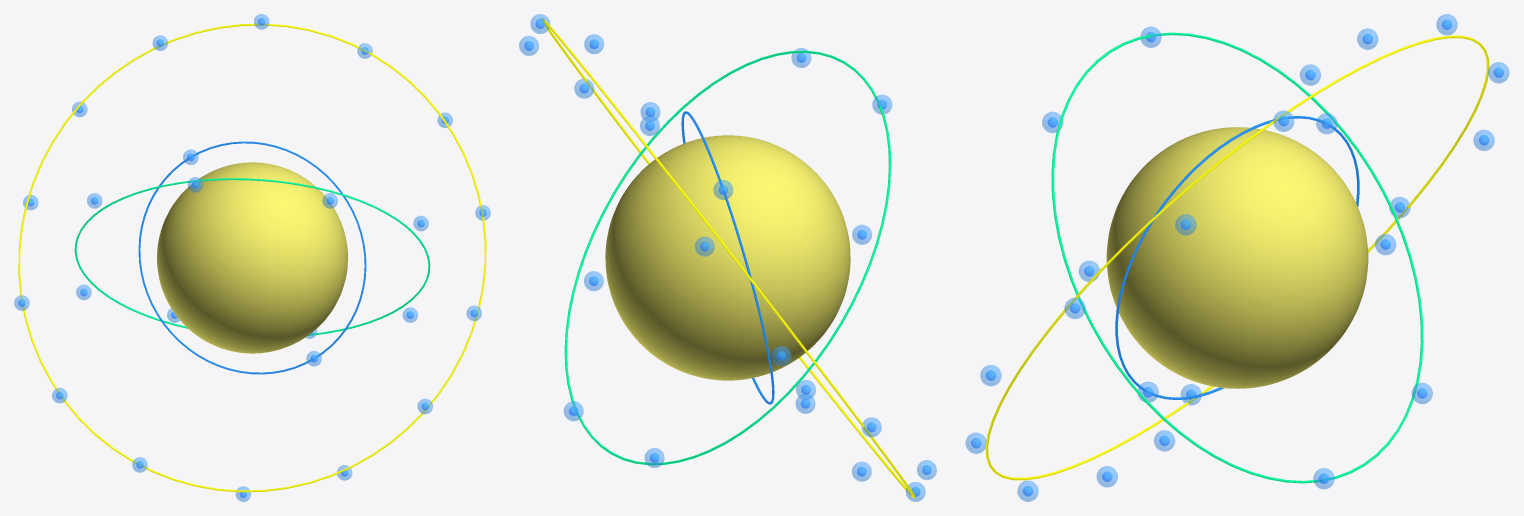
The picture shows the model from 3 angles, left to right: view 1: azimuth 30°, elevation 25°; view 2: azimuth 150°, elevation 25°; view 3: azimuth 270°, elevation 25°; orthographic projection. The views are drawn at different scales.
Parts seen in each view (by area): view 1: Cr, object 24, object 7, object 2; view 2: Cr, object 7, object 24, object 2; view 3: Cr, object 7, object 24, object 2.
Part boxes in pixels (box(x1,y1,x2,y2)): Cr: box(157, 162, 347, 353); object 24: box(18, 23, 486, 492); object 7: box(74, 178, 430, 335); object 2: box(138, 141, 366, 374); Cr: box(605, 135, 850, 380); object 7: box(564, 50, 891, 465); object 24: box(540, 17, 915, 498); object 2: box(681, 111, 774, 404); Cr: box(1106, 127, 1368, 388); object 7: box(1051, 32, 1423, 483); object 24: box(985, 35, 1489, 480); object 2: box(1115, 116, 1359, 399).
Size of the model in its own units: 4.24 by 4.36 by 4.04.
